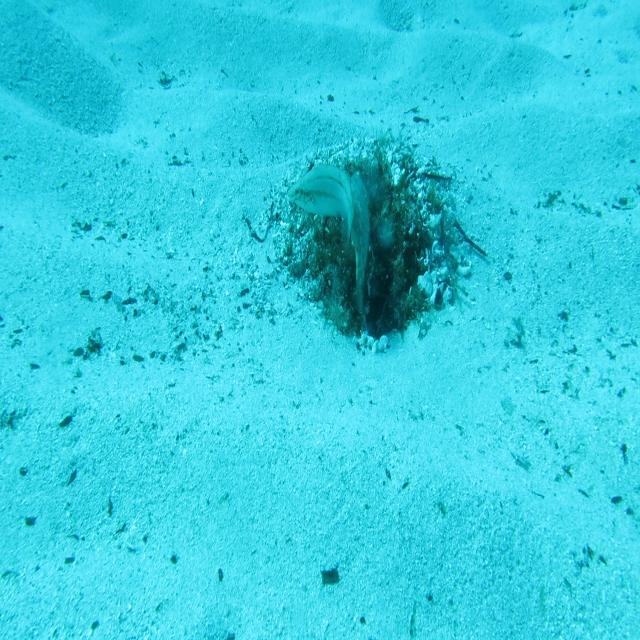ROLL: (347, 164, 375, 319)
female: (286, 160, 354, 254)
nest: (267, 127, 492, 366)
vegetation: (321, 565, 341, 586)
